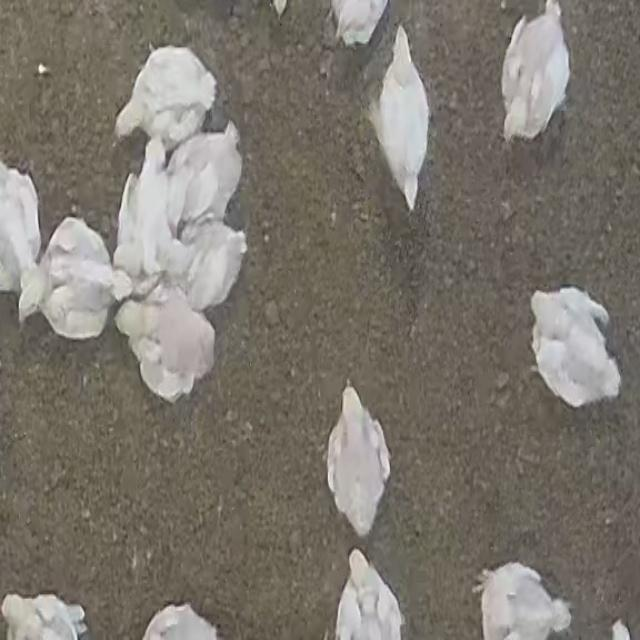chicken: (526, 284, 625, 415), (372, 22, 436, 218), (113, 288, 221, 402), (324, 374, 393, 541), (498, 0, 575, 147), (112, 43, 220, 144)
